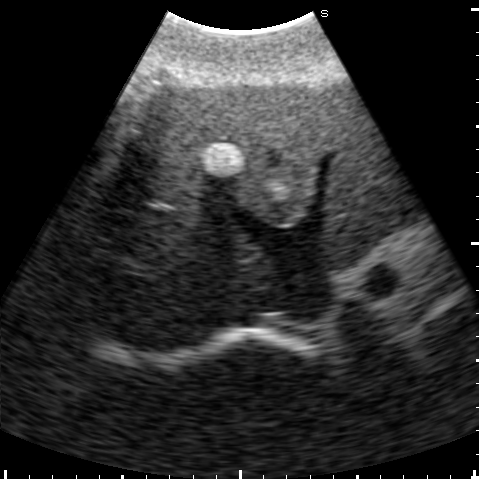S2: (326, 119, 408, 269)
S4: (155, 85, 344, 229)
S7: (83, 262, 223, 345)
S8: (107, 106, 265, 278)
Tumor: (202, 141, 245, 178), (264, 180, 288, 199)
